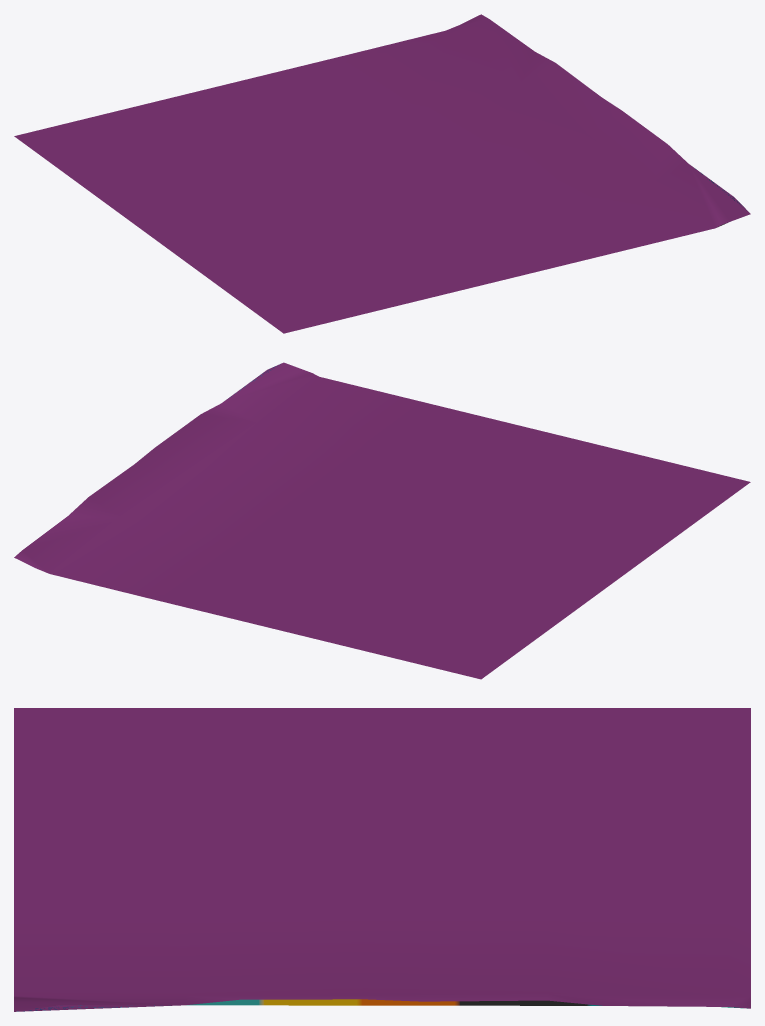
Rendered from tile_1_0_7.gltf.
The picture shows the model from 3 angles, top to bottom: view 1: azimuth 30°, elevation 25°; view 2: azimuth 150°, elevation 25°; view 3: azimuth 270°, elevation 25°; orthographic projection. The views are drawn at different scales.
Visible parts, largest first — view 1: Plane; view 2: Plane; view 3: Plane.
Part boxes in pixels (<box>): Plane: <box>14,14,750,333</box>; Plane: <box>14,362,750,679</box>; Plane: <box>14,708,750,1011</box>.
Bounding box in the file's own units: 8 × 0.2409 × 8.
1 material, 1 textured.
